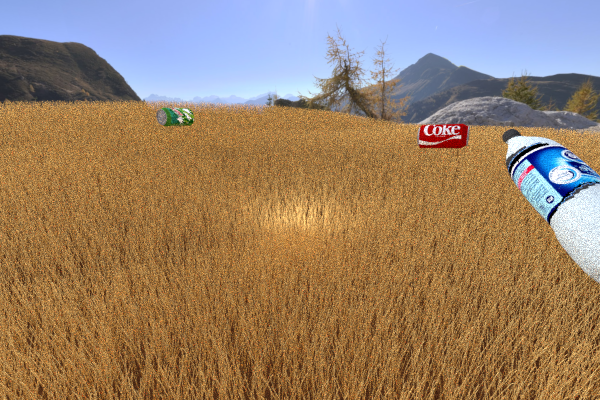Plastic Bottle: (502, 128, 600, 297), (417, 123, 469, 148), (156, 107, 194, 126)
